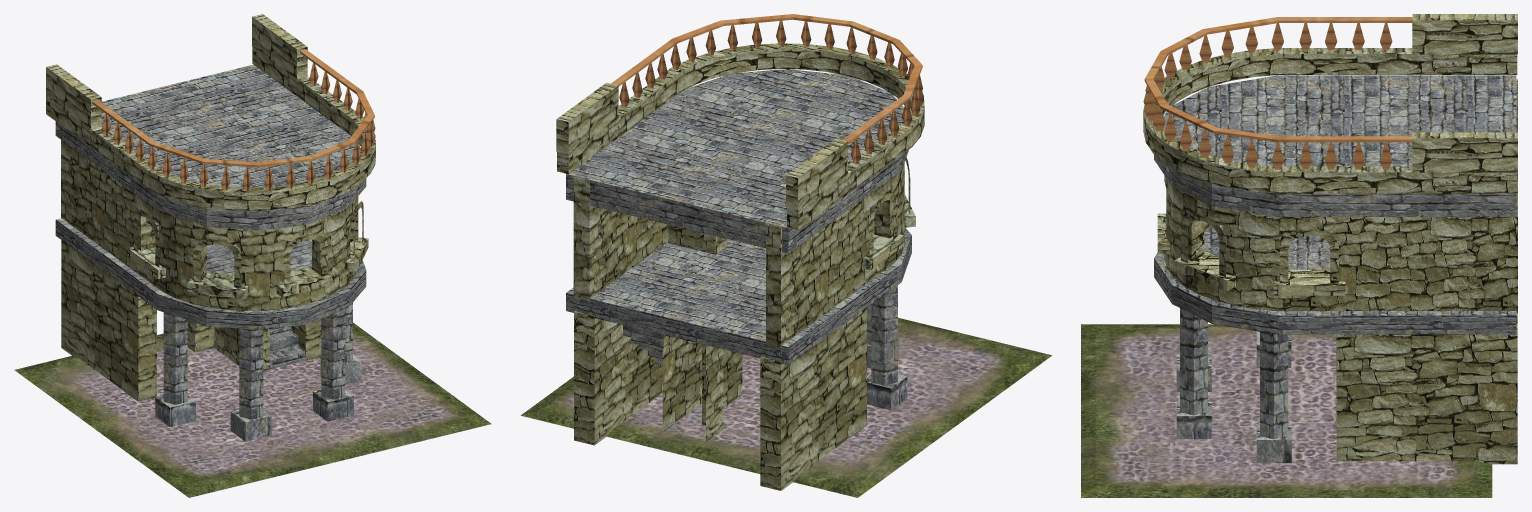
The model's file is DiasLoPoly.obj.
3 views of the same model, side by side, from view 1: azimuth 30°, elevation 25°; view 2: azimuth 150°, elevation 25°; view 3: azimuth 270°, elevation 25° (orthographic). The views are drawn at different scales.
Parts seen in each view (by area): view 1: limestone, rock, mudgrass, floor; view 2: limestone, rock, mudgrass, floor; view 3: limestone, rock, mudgrass, floor.
Part boxes in pixels (<box>): limestone: <box>46,14,375,401</box>; rock: <box>55,64,366,441</box>; mudgrass: <box>14,322,491,497</box>; floor: <box>92,49,375,191</box>; limestone: <box>556,43,924,490</box>; rock: <box>566,69,911,410</box>; mudgrass: <box>521,317,1051,497</box>; floor: <box>611,14,923,164</box>; limestone: <box>1143,14,1517,464</box>; rock: <box>1154,75,1516,462</box>; mudgrass: <box>1081,324,1492,497</box>; floor: <box>1143,17,1412,169</box>.
Bounding box in the file's own units: 76 × 68.38 × 80.74.
